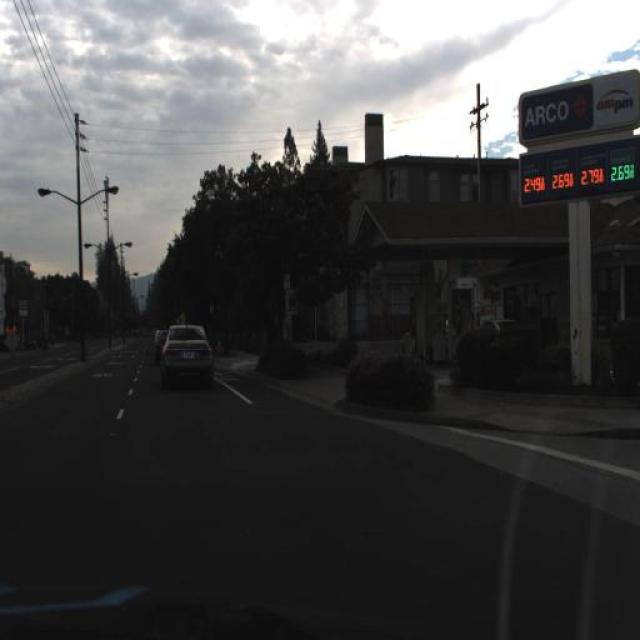car: (158, 320, 216, 390)
